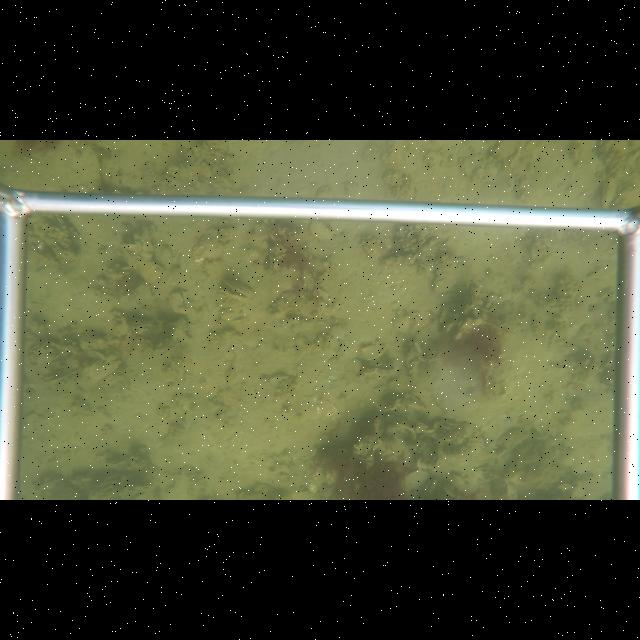Oyster-Closed: (433, 252, 461, 294), (600, 175, 618, 211), (167, 288, 190, 314), (309, 219, 333, 241), (417, 256, 435, 272)
Oyster-Open: (218, 276, 256, 304), (88, 353, 122, 379)
